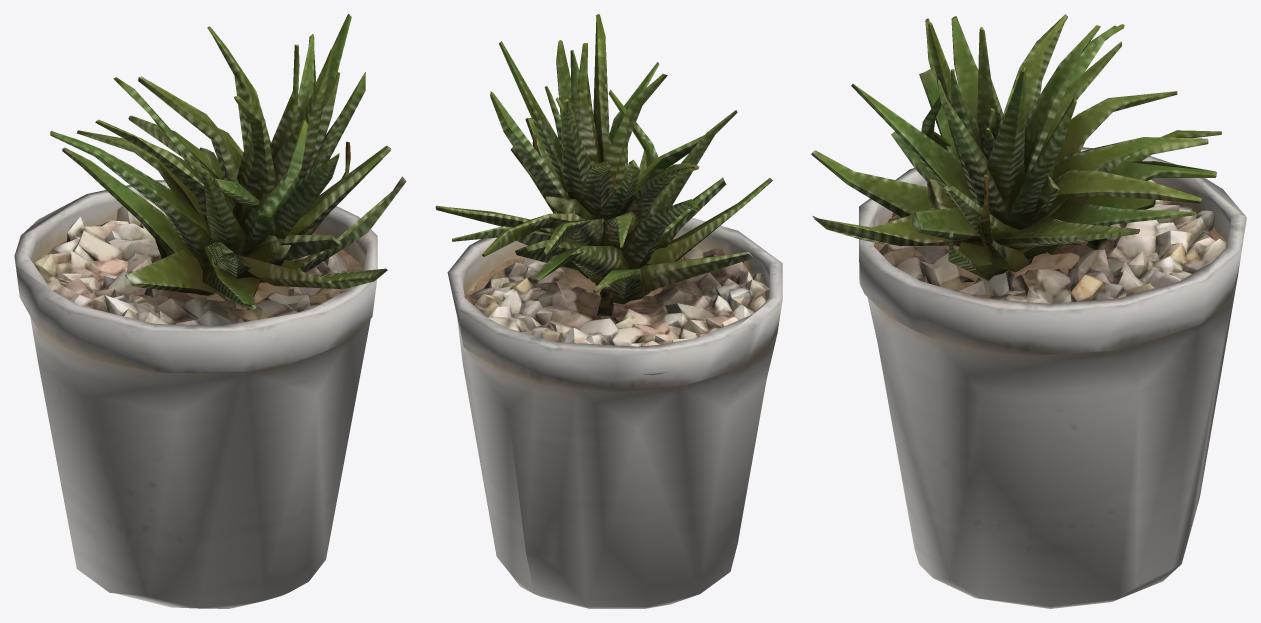
Rendered from plant_aloe_pot.glb.
3 views of the same model, side by side, from view 1: azimuth 30°, elevation 25°; view 2: azimuth 150°, elevation 25°; view 3: azimuth 270°, elevation 25° (orthographic). The views are drawn at different scales.
Visible parts, largest first — view 1: plant_aloe_pot; view 2: plant_aloe_pot; view 3: plant_aloe_pot.
Boxes of the visible parts, box(x1,y1,x2,y2) form: plant_aloe_pot: box(14, 14, 406, 608); plant_aloe_pot: box(435, 14, 782, 608); plant_aloe_pot: box(811, 14, 1246, 608).
Bounding box in the file's own units: 0.5002 × 0.8 × 0.5491.
1 material, 1 textured.
